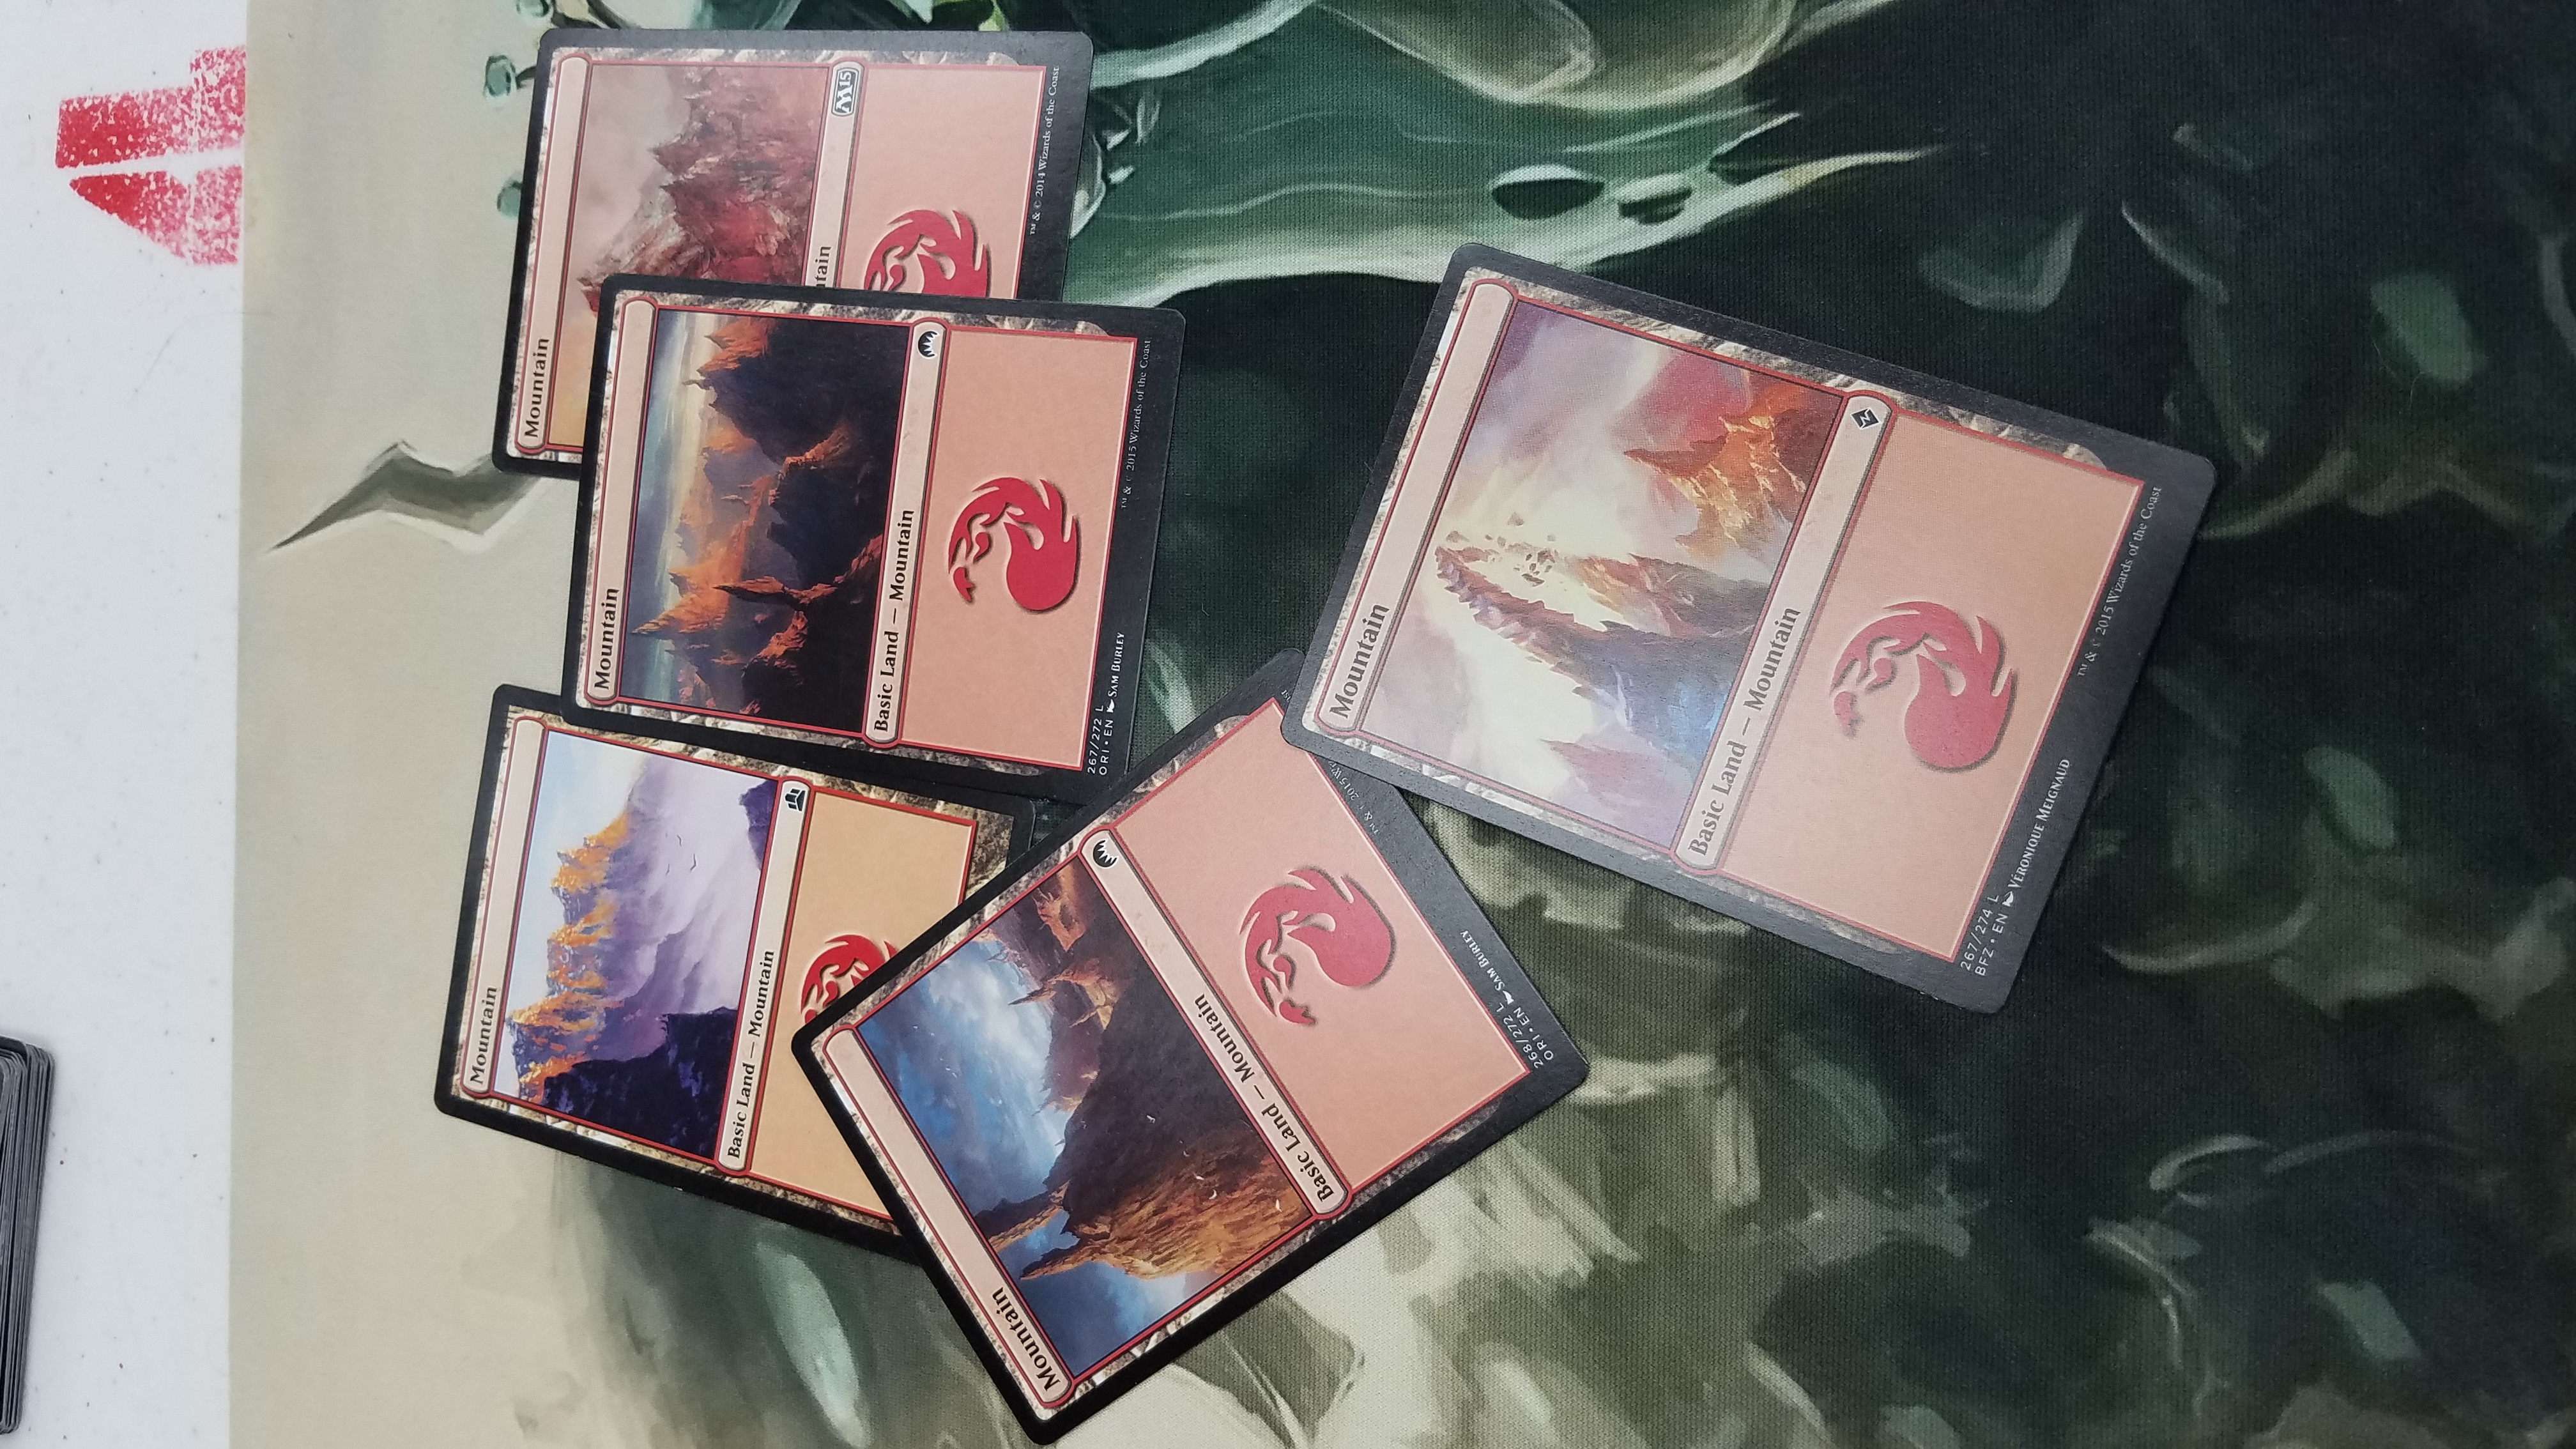Card: (1281, 246, 2231, 1019), (803, 630, 1601, 1442), (425, 679, 1040, 1279), (556, 271, 1198, 805), (501, 18, 1104, 513)
